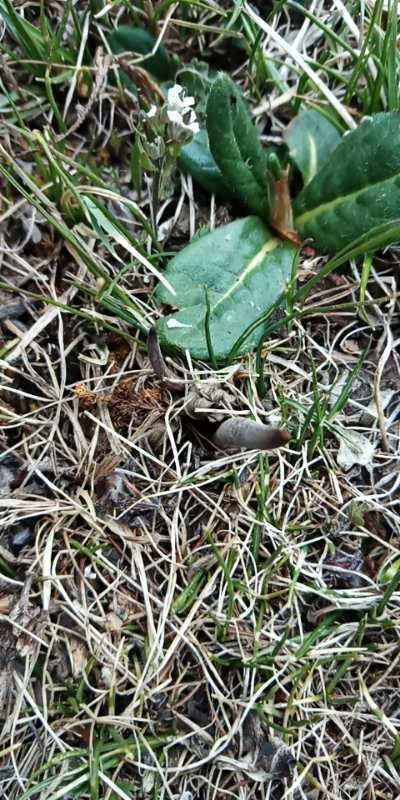cpf: (205, 412, 294, 455), (143, 325, 190, 390)
